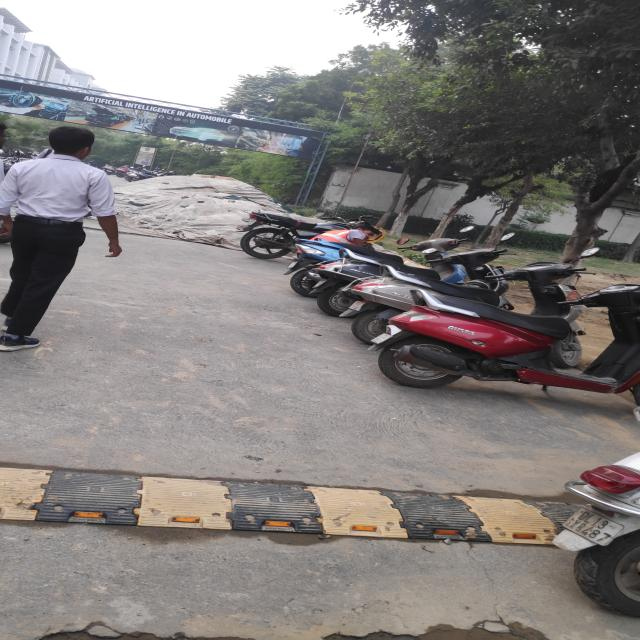unsafe: (7, 123, 128, 360)
